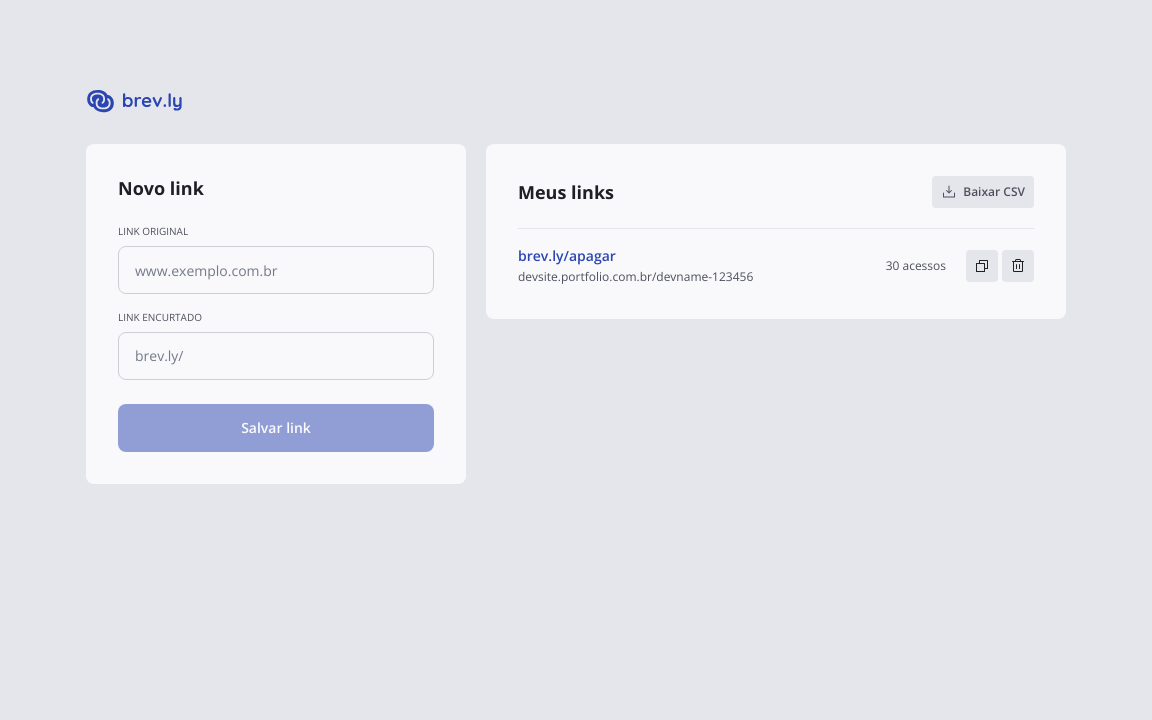
Test: Home — ações da lista › avisa quando a exportação falha
Click the button "Baixar CSV" at (983, 192), box x1=932 y1=176 x2=1034 y2=208
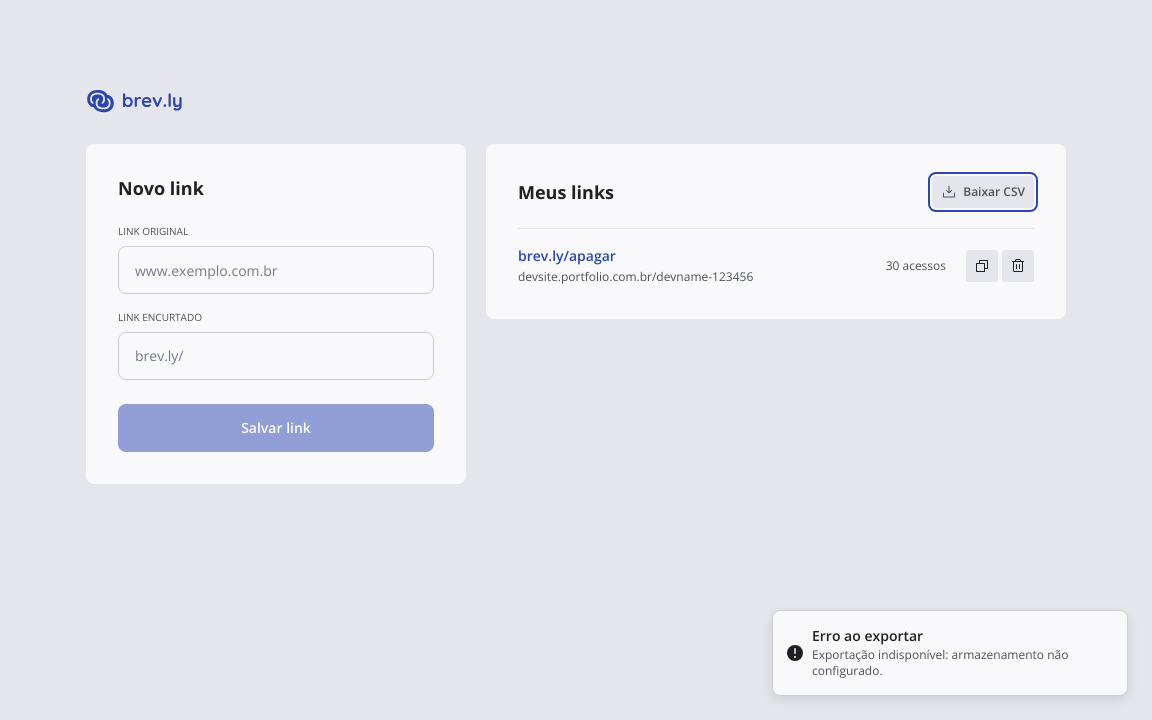
Expected: the text "Exportação indisponível: armazenamento não configurado." is shown, x1=812 y1=647 x2=1111 y2=679
